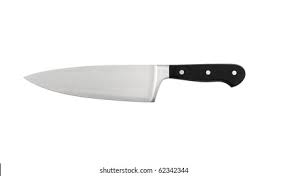knife: (22, 63, 246, 103)
